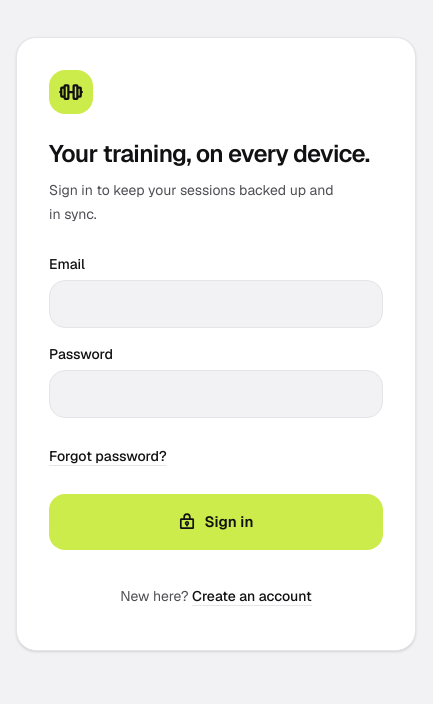
AuthScreen signup confirmations › offers the same resend action for an unconfirmed account
Click the button "Create an account" at (252, 596), box [192,574,312,618]
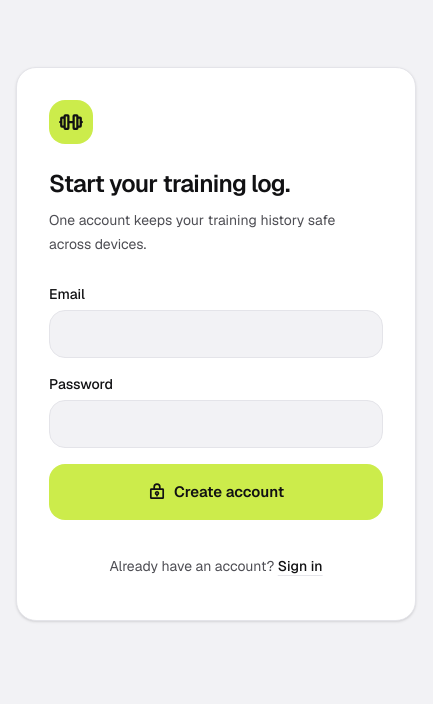
Type "unconfirmed@example.com" into the field labelled "Email" at (216, 334), box [49,310,383,358]
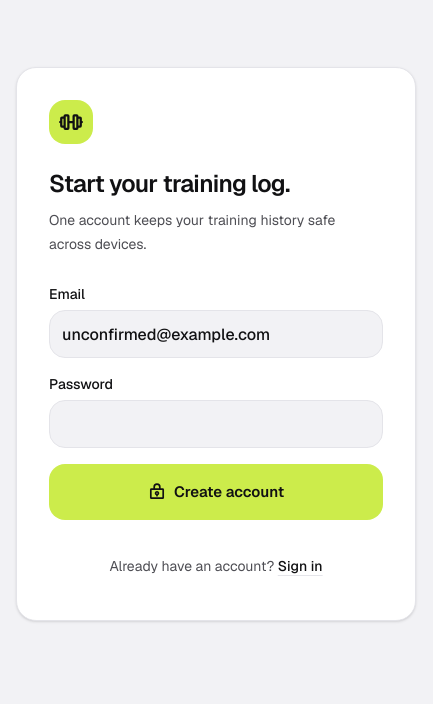
Type "strong-password" into the password field labelled "Password" at (216, 424), box [49,400,383,448]
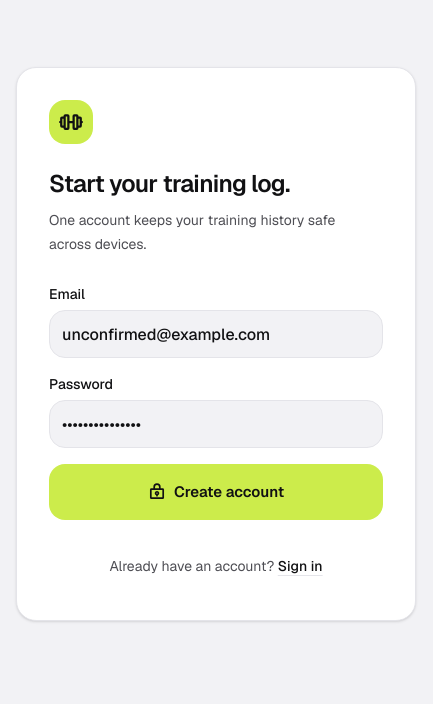
Submit the form "Create account", box [49,284,383,520]
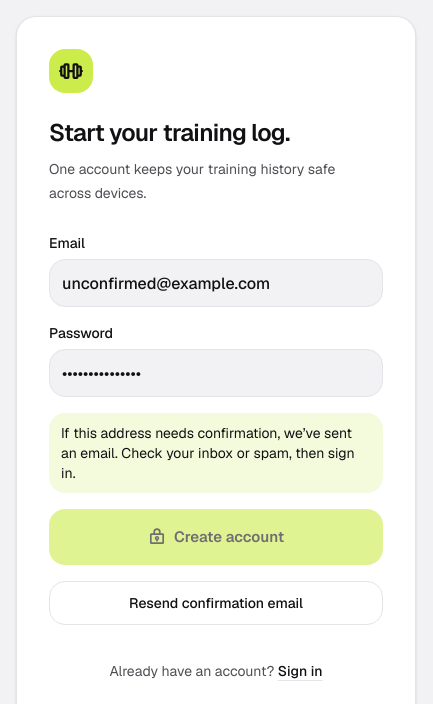
Click the button "Resend confirmation email" at (216, 603), box [49,581,383,625]
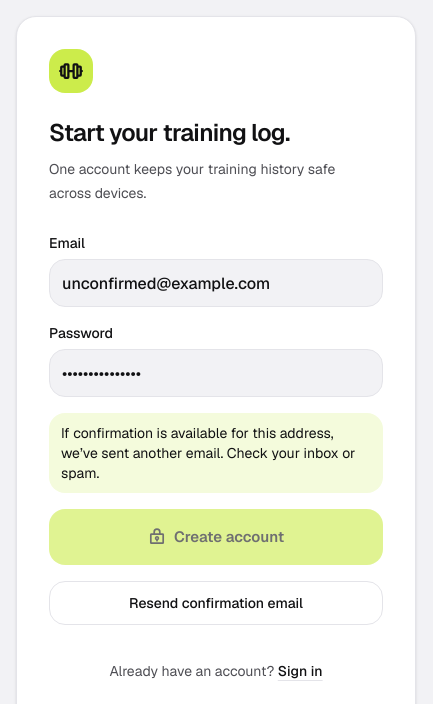
Expected: the text "If confirmation is available" is shown, [61,424,355,482]
